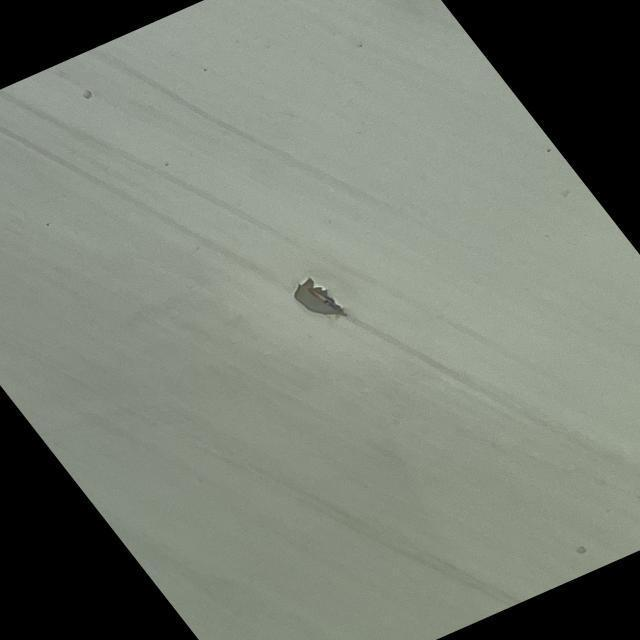crack: (301, 286, 361, 336)
